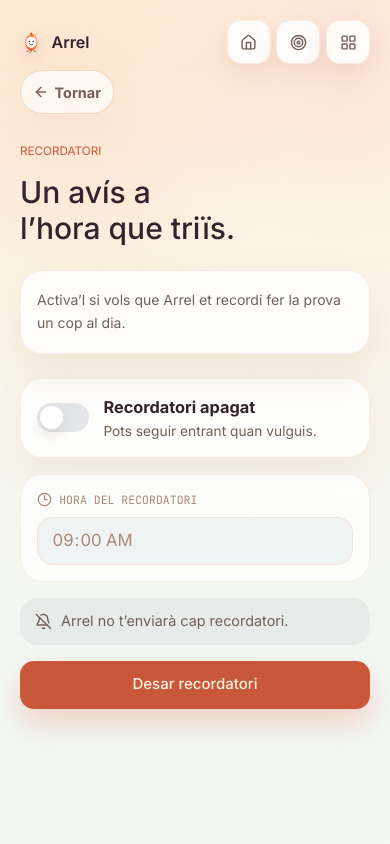
Reminder settings › explains the web fallback when native notifications are unavailable
The image size is (390, 844).
Click the checkbox: (195, 418) x1=20 y1=378 x2=370 y2=458
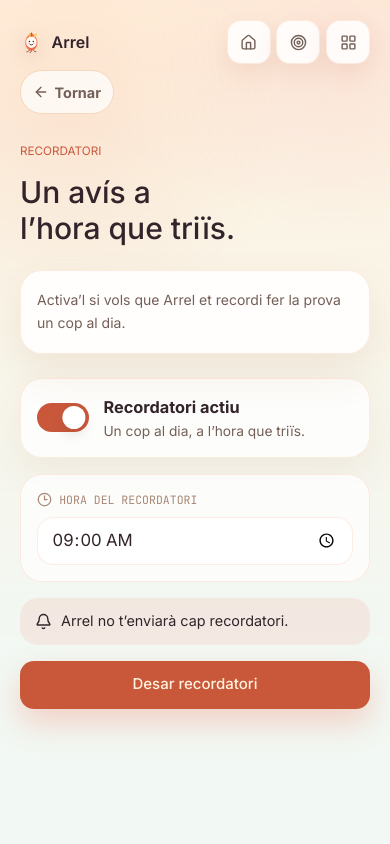
Click the button "Desar recordatori": (195, 684) x1=20 y1=660 x2=370 y2=708
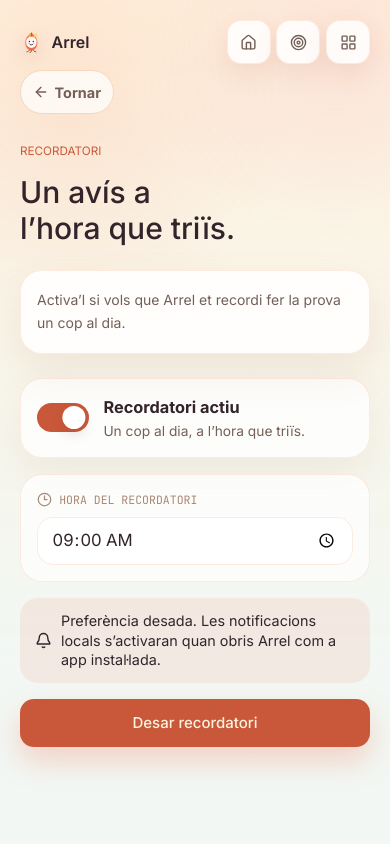
Expected: the text "Preferència desada. Les notificacions locals s’activaran" is shown, x1=61 y1=612 x2=336 y2=668
